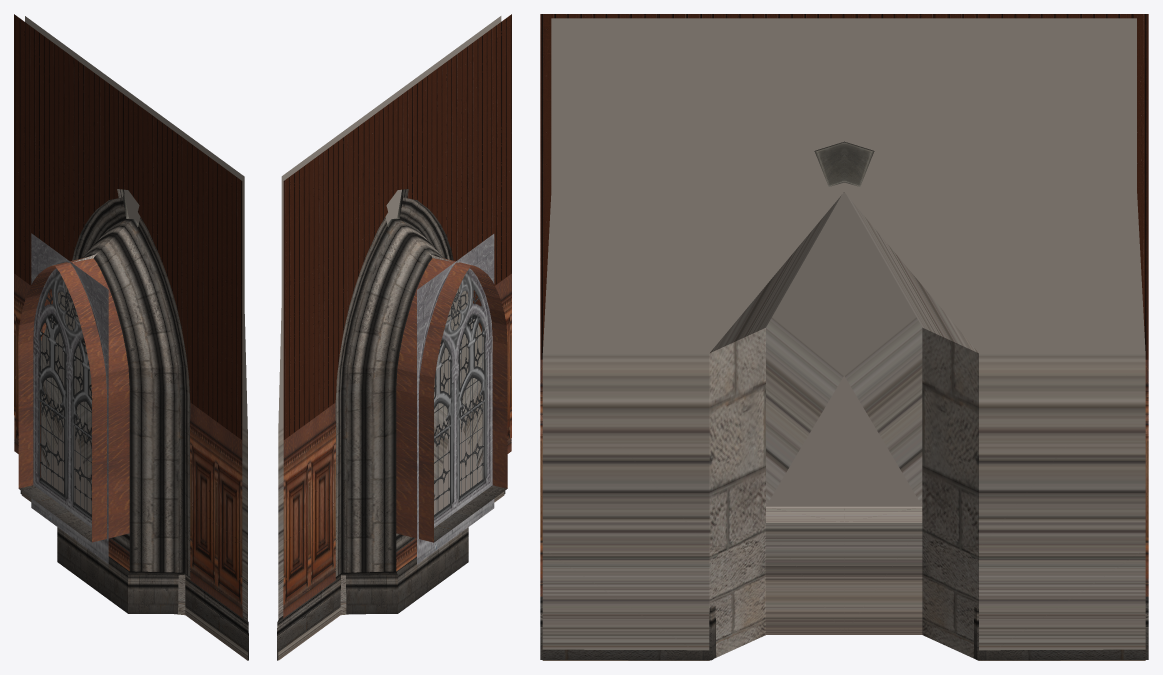
Rendered from WindowArchedLibrary.fbx.
3 views of the same model, side by side, from view 1: azimuth 30°, elevation 25°; view 2: azimuth 150°, elevation 25°; view 3: azimuth 270°, elevation 25° (orthographic). The views are drawn at different scales.
Visible parts, largest first — view 1: WindowArch_Library, WindowArch_Library_Collmesh; view 2: WindowArch_Library, WindowArch_Library_Collmesh; view 3: WindowArch_Library_Collmesh, WindowArch_Library.
Part boxes in pixels (box(x1,y1,x2,y2)): WindowArch_Library: box(14, 14, 248, 660); WindowArch_Library_Collmesh: box(21, 16, 247, 660); WindowArch_Library: box(277, 14, 511, 660); WindowArch_Library_Collmesh: box(278, 16, 504, 660); WindowArch_Library_Collmesh: box(542, 18, 1145, 660); WindowArch_Library: box(540, 14, 1148, 660).
Size of the model in its own units: 209 by 1210 by 1039.
